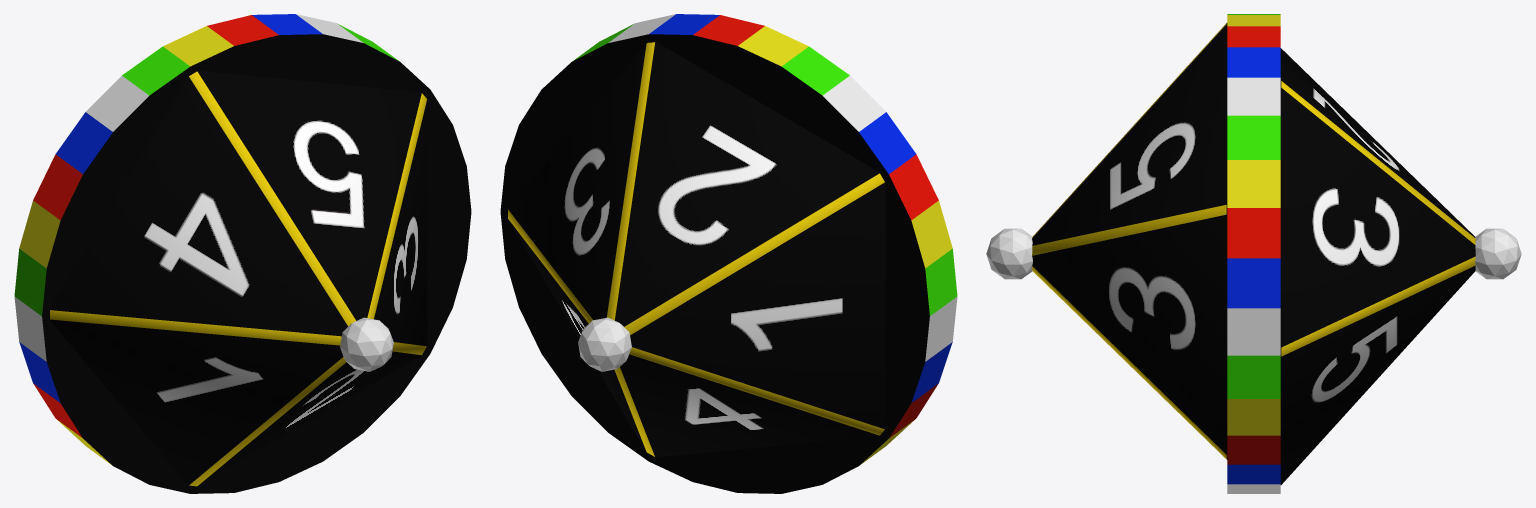
Rendered from DrMalloyDice_d5.glb.
3 renders of one model, left to right at view 1: azimuth 30°, elevation 25°; view 2: azimuth 150°, elevation 25°; view 3: azimuth 270°, elevation 25°, orthographic. The views are drawn at different scales.
Visible parts, largest first — view 1: Mesh_0; view 2: Mesh_0; view 3: Mesh_0.
Boxes of the visible parts, x1=… form: Mesh_0: x1=14, y1=14, x2=471, y2=493; Mesh_0: x1=500, y1=14, x2=957, y2=493; Mesh_0: x1=986, y1=14, x2=1521, y2=493.
Bounding box in the file's own units: 180 × 179 × 200.
9 materials, 1 textured.
